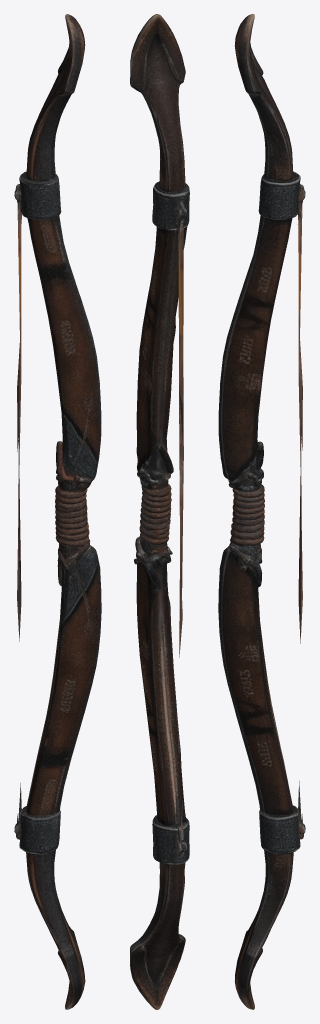
File: longbow.fbx
The picture shows the model from 3 angles, left to right: view 1: azimuth 90°, elevation 25°; view 2: azimuth 210°, elevation 25°; view 3: azimuth 270°, elevation 25°; orthographic projection.
Visible parts, largest first — view 1: longbow; view 2: longbow; view 3: longbow.
Part boxes in pixels (x1=…): longbow: x1=14, y1=14, x2=101, y2=1009; longbow: x1=130, y1=14, x2=189, y2=1009; longbow: x1=218, y1=14, x2=305, y2=1009.
Bounding box in the file's own units: 0.274 × 4.8 × 0.3814.
Materials: 1 (1 with a texture image).
